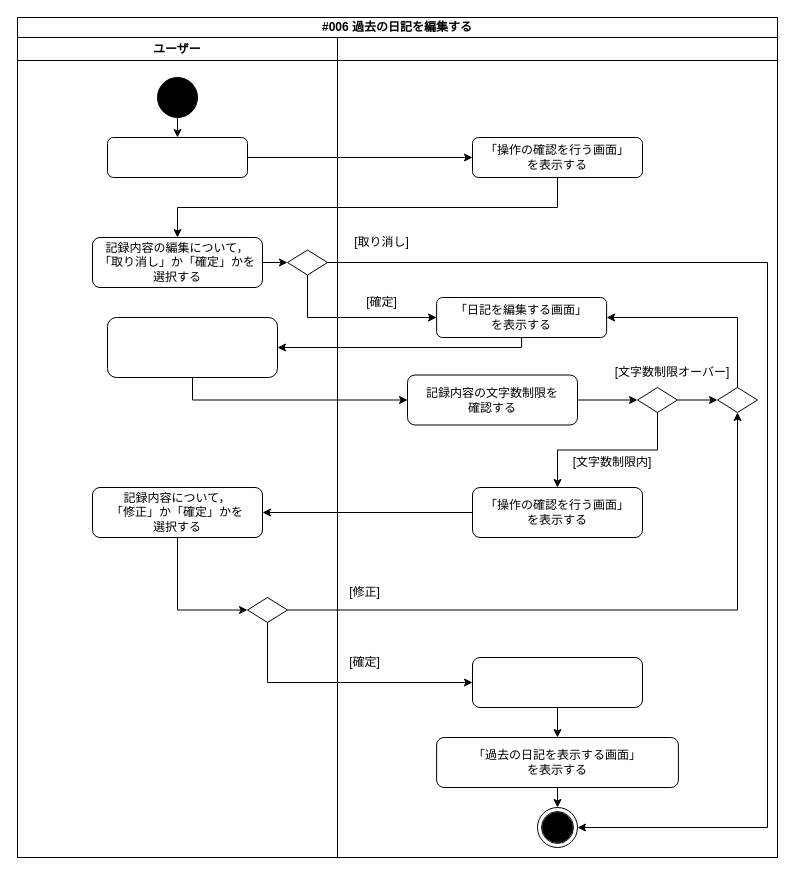
This 795x875 diagram has some shape labels left out. The box of each missing label's shape, as (x1, y1, x2, y2) in pixels:
「日記の編集」 を選択する: (106, 136, 248, 178)
システム: (336, 36, 778, 858)
日記の記録内容を 確定する: (472, 656, 642, 708)
日記の記録内容を編集し， 「内容確認」を選択する: (106, 316, 278, 378)
